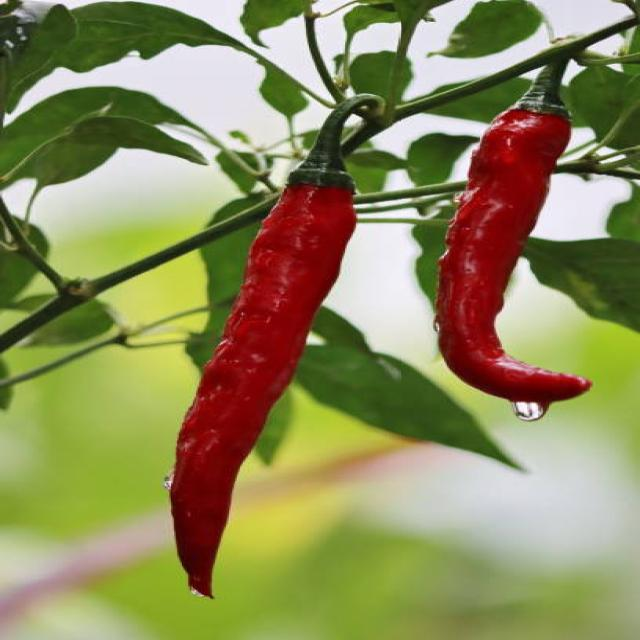Ripe: (169, 185, 355, 596), (436, 107, 590, 405)
